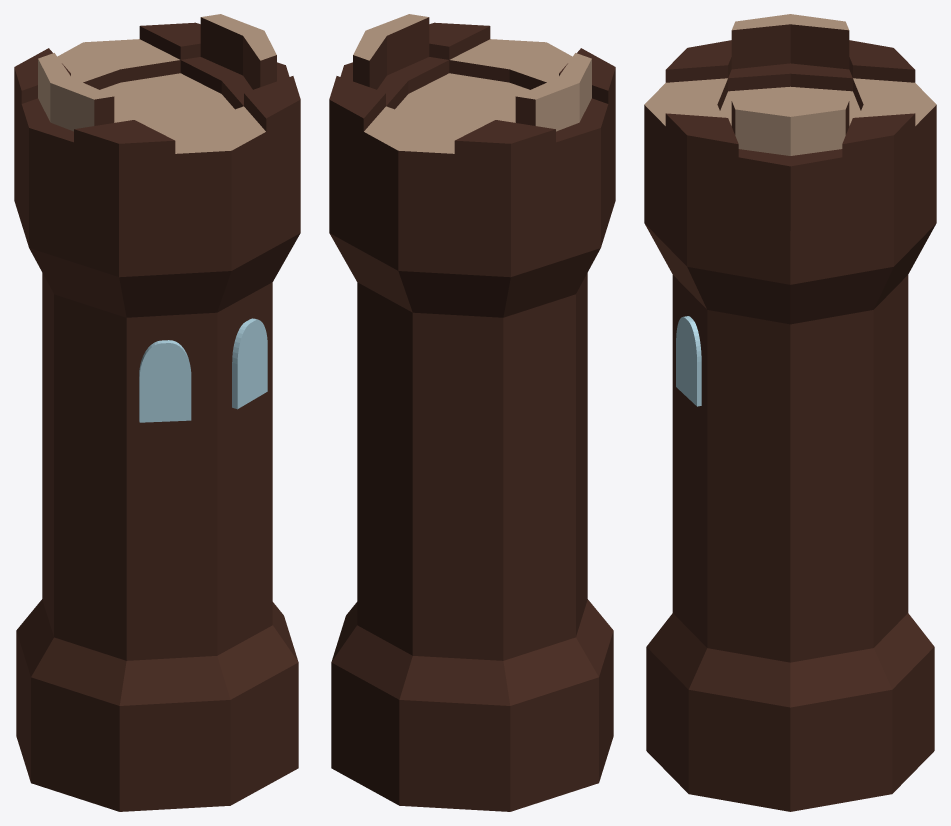
The model's file is Tower2_Colored.fbx.
3 renders of one model, left to right at view 1: azimuth 30°, elevation 25°; view 2: azimuth 150°, elevation 25°; view 3: azimuth 270°, elevation 25°, orthographic.
Visible parts, largest first — view 1: Cylinder, Cube, Cube.001; view 2: Cylinder; view 3: Cylinder, Cube.001.
Part boxes in pixels (x1,y1,x2,y2): Cylinder: [14, 14, 300, 811]; Cube: [139, 340, 191, 422]; Cube.001: [232, 318, 267, 409]; Cylinder: [329, 14, 615, 811]; Cylinder: [644, 14, 936, 811]; Cube.001: [676, 316, 701, 406].
Size of the model in its own units: 203 by 525 by 203.
